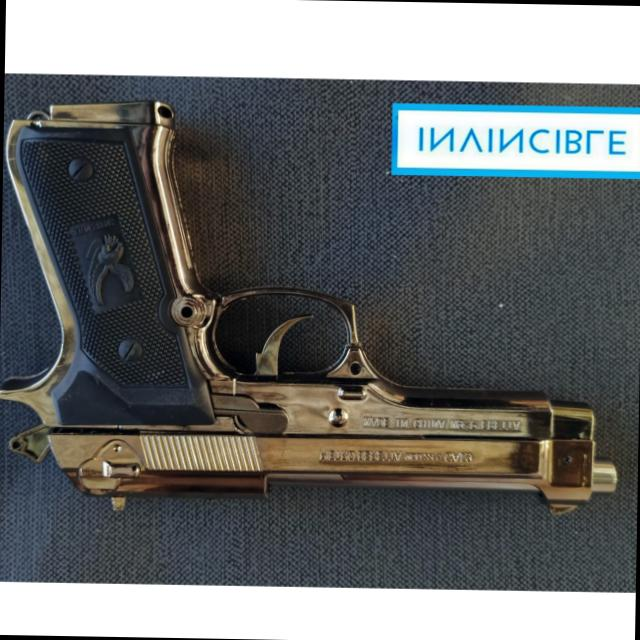Gun: (0, 69, 636, 533)
